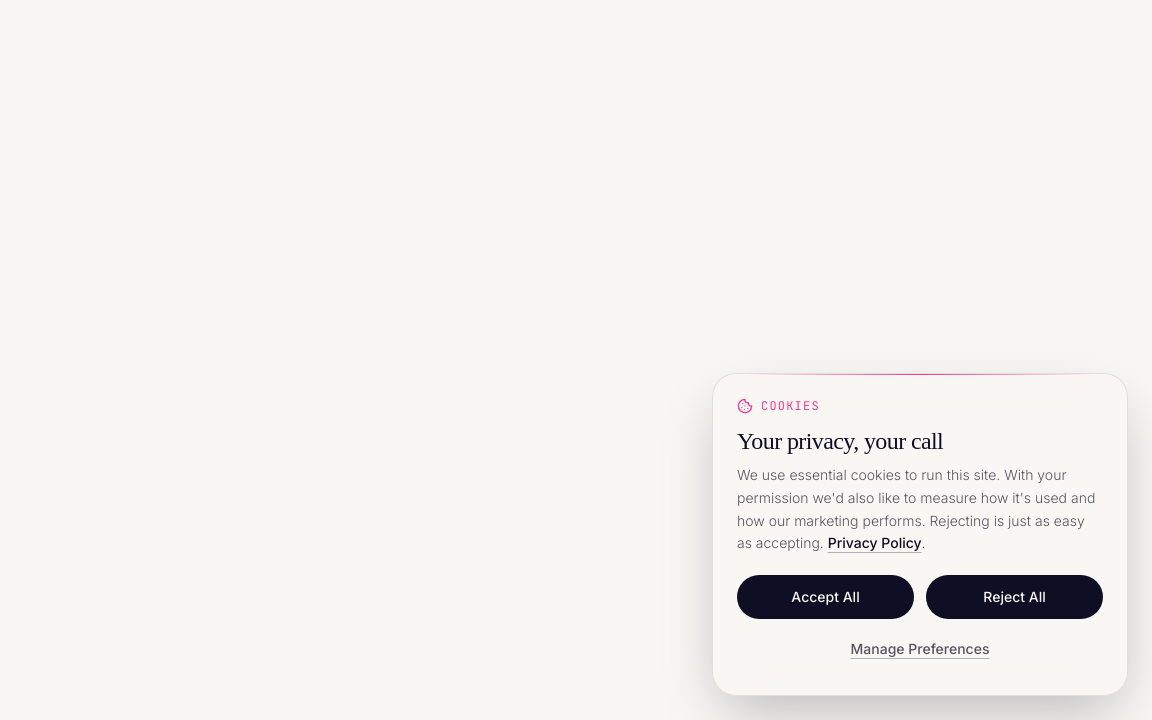
Test: CookieConsent › opens preferences with every optional category unchecked
Step 1. Click the button "Manage Preferences" → (920,649), box [838, 627, 1001, 671]
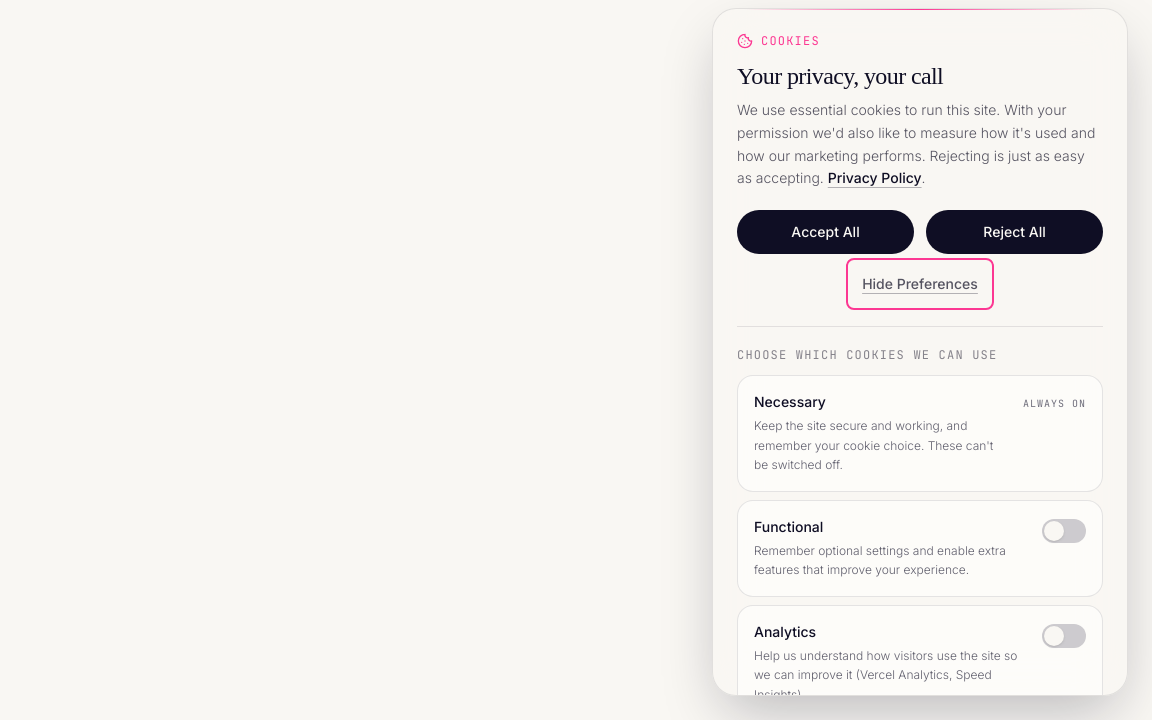
Expected: the button named "Manage Preferences" is expanded, [850, 262, 990, 306]
Expected: the switch labelled "Functional" is not checked, [737, 500, 1103, 596]
Expected: the switch labelled "Analytics" is not checked, [737, 604, 1103, 696]
